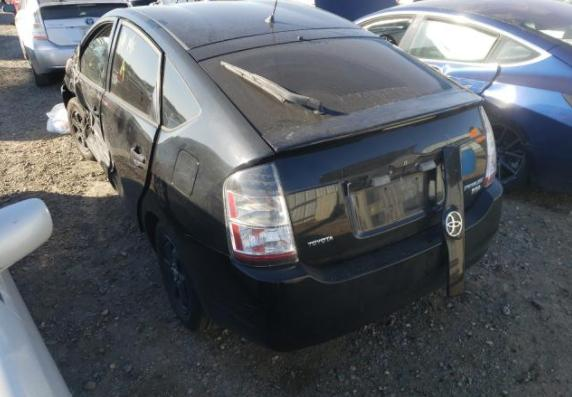Back-bumper: (173, 177, 504, 354)
Back-door: (101, 17, 165, 235)
Back-wheel: (154, 219, 222, 332)
Back-window: (111, 25, 159, 123), (161, 57, 200, 129)
Back-windshield: (198, 37, 462, 136)
Fender: (63, 58, 76, 97)
Front-bumper: (60, 83, 67, 110)
Front-door: (74, 16, 119, 183)
Front-wheel: (67, 96, 98, 161)
Front-window: (81, 36, 110, 89)
Quarter-panel: (140, 115, 277, 258)
Rocker-panel: (84, 136, 105, 172)
Roof: (126, 1, 363, 50)
Tail-light: (222, 161, 299, 267), (480, 104, 497, 189)
Trunk: (186, 27, 489, 269)
